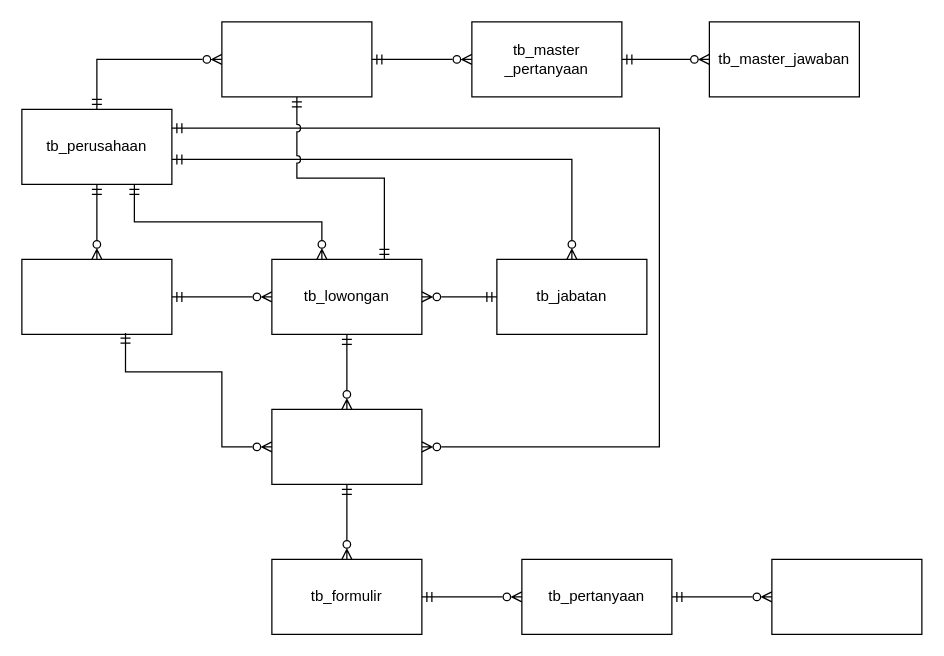
Some shapes in this 944 by 656 pixel diagram are drawn without their labels. The centre of each missing label's shape, as x and y in pixels:
"tb_jawaban" belongs at point 846,596.
"tb_lamaran" belongs at point 346,446.
"tb_master_formulir" belongs at point 296,59.
"tb_user" belongs at point 96,296.
